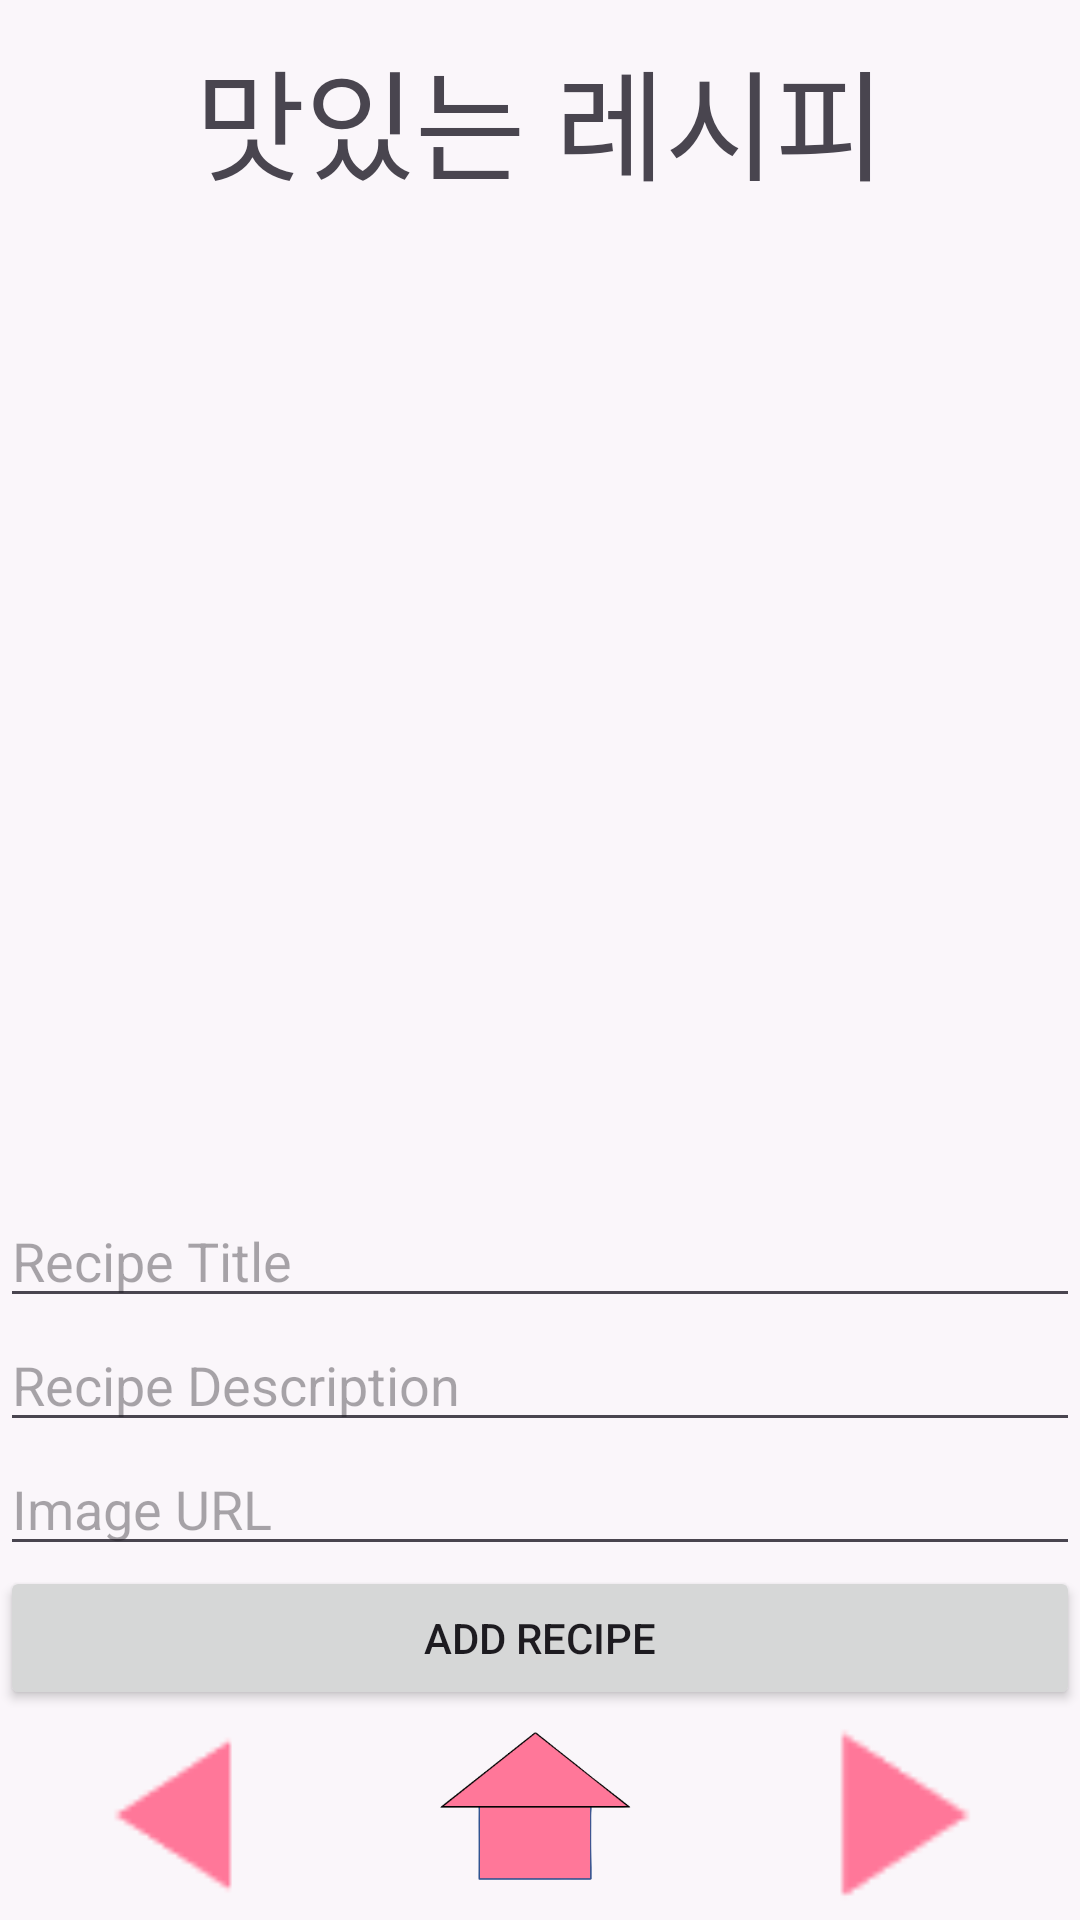

Screen size 1080*1920. Icon name, then its box in pixels as detection(x1, y1, x2, y2):
back: detection(116, 1741, 232, 1889)
home: detection(440, 1732, 630, 1880)
